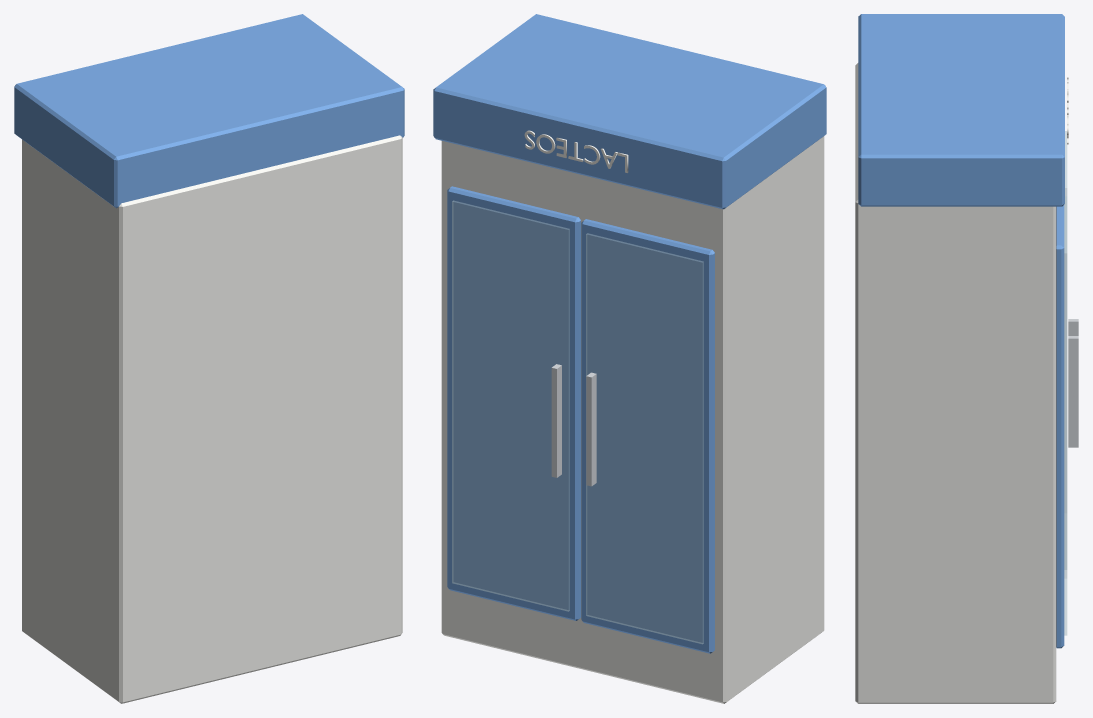
The model's file is Nevera_Lacteos.fbx.
3 renders of one model, left to right at view 1: azimuth 30°, elevation 25°; view 2: azimuth 150°, elevation 25°; view 3: azimuth 270°, elevation 25°, orthographic.
Parts seen in each view (by area): view 1: Nevera_Lacteos | Carcasa, Nevera_Lacteos | Cabecera; view 2: Nevera_Lacteos | Carcasa, Nevera_Lacteos | Marco puerta, Nevera_Lacteos | Marco puerta.001, Nevera_Lacteos | Cabecera, Nevera_Lacteos | Cristal puerta, Nevera_Lacteos | Cristal puerta.001, Nevera_Lacteos | Tirador, Nevera_Lacteos | Tirador.001, Nevera_Lacteos | Texto nevera; view 3: Nevera_Lacteos | Carcasa, Nevera_Lacteos | Cabecera, Nevera_Lacteos | Marco puerta.001, Nevera_Lacteos | Cristal puerta.001, Nevera_Lacteos | Cristal puerta, Nevera_Lacteos | Tirador.001.
Part boxes in pixels (x1,y1,x2,y2): Nevera_Lacteos | Carcasa: [22, 135, 402, 703]; Nevera_Lacteos | Cabecera: [14, 14, 404, 208]; Nevera_Lacteos | Carcasa: [441, 136, 824, 703]; Nevera_Lacteos | Marco puerta: [581, 219, 714, 653]; Nevera_Lacteos | Marco puerta.001: [447, 186, 580, 620]; Nevera_Lacteos | Cabecera: [433, 14, 826, 209]; Nevera_Lacteos | Cristal puerta: [586, 233, 703, 644]; Nevera_Lacteos | Cristal puerta.001: [452, 200, 569, 611]; Nevera_Lacteos | Tirador: [586, 372, 596, 486]; Nevera_Lacteos | Tirador.001: [551, 364, 561, 477]; Nevera_Lacteos | Texto nevera: [524, 130, 628, 172]; Nevera_Lacteos | Carcasa: [855, 63, 1056, 703]; Nevera_Lacteos | Cabecera: [858, 14, 1064, 206]; Nevera_Lacteos | Marco puerta.001: [1056, 205, 1064, 648]; Nevera_Lacteos | Cristal puerta.001: [1064, 196, 1067, 635]; Nevera_Lacteos | Cristal puerta: [1064, 131, 1067, 569]; Nevera_Lacteos | Tirador.001: [1068, 336, 1078, 447].
Bounding box in the file's own units: 1.18 × 2.12 × 0.7775.
